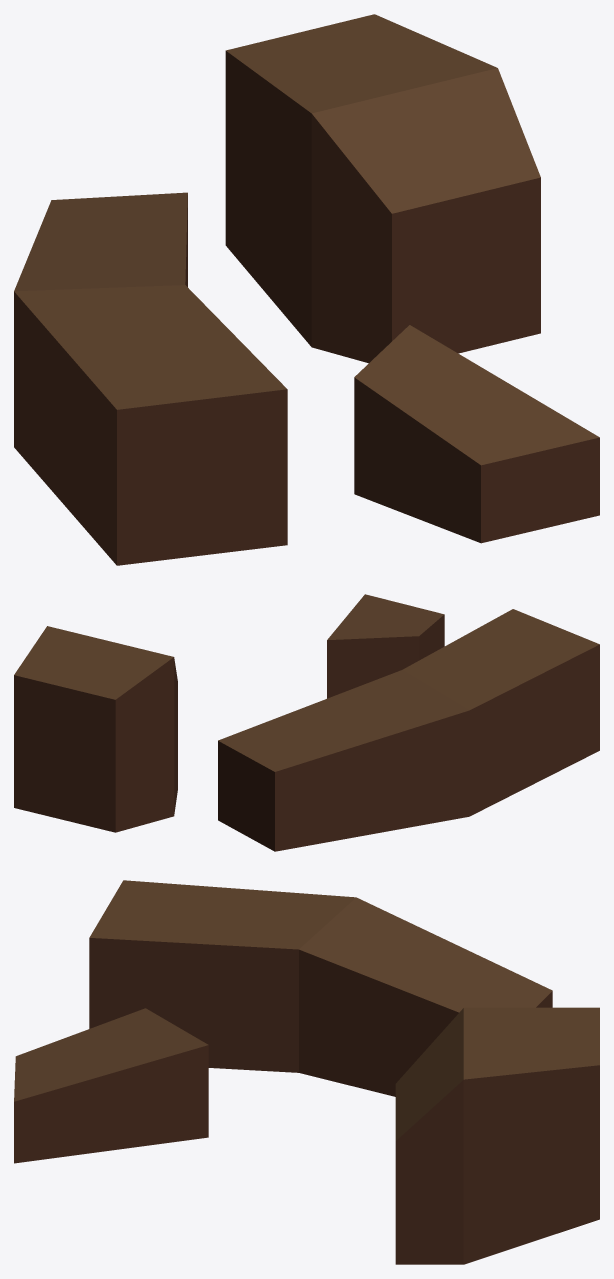
Rendered from bajskorv.glb.
The picture shows the model from 3 angles, top to bottom: view 1: azimuth 30°, elevation 25°; view 2: azimuth 150°, elevation 25°; view 3: azimuth 270°, elevation 25°; orthographic projection. The views are drawn at different scales.
Parts seen in each view (by area): view 1: bajsboll, bajskorv, bajsplupp; view 2: bajskorv, bajsboll, bajsplupp; view 3: bajskorv, bajsboll, bajsplupp.
Part boxes in pixels (<box>): bajsboll: <box>225,14,540,363</box>; bajskorv: <box>14,192,287,565</box>; bajsplupp: <box>354,325,599,543</box>; bajskorv: <box>218,609,599,851</box>; bajsboll: <box>14,626,177,832</box>; bajsplupp: <box>327,594,444,698</box>; bajskorv: <box>89,880,552,1096</box>; bajsboll: <box>395,1007,599,1264</box>; bajsplupp: <box>14,1008,208,1163</box>.
Size of the model in its own units: 0.25 by 0.0938 by 0.269.
Materials: 1 (1 with a texture image).
